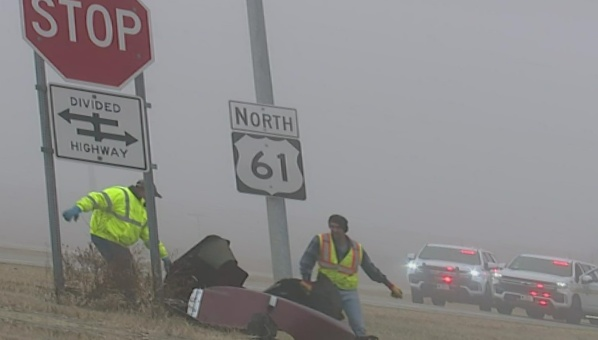Stop: (19, 0, 164, 87)
